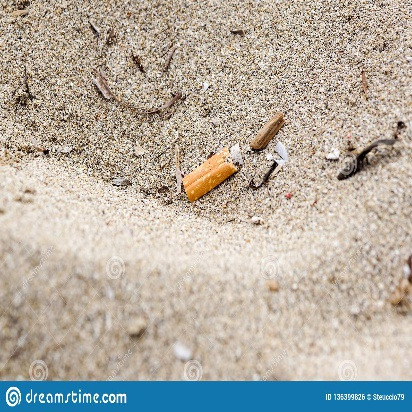cigarette: (182, 154, 244, 203)
